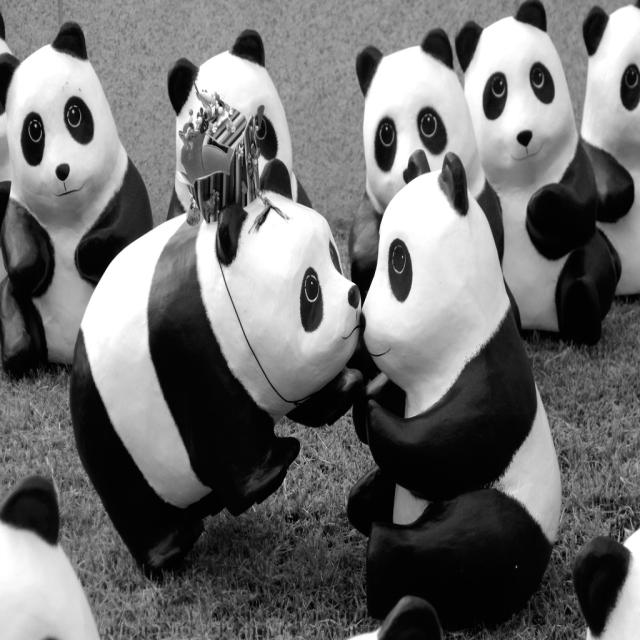panda: (67, 160, 364, 580), (348, 159, 558, 626), (0, 18, 150, 378), (452, 0, 608, 339), (348, 28, 520, 332), (166, 30, 309, 223), (579, 0, 639, 298), (0, 473, 99, 639), (568, 521, 640, 640), (347, 596, 441, 640)
